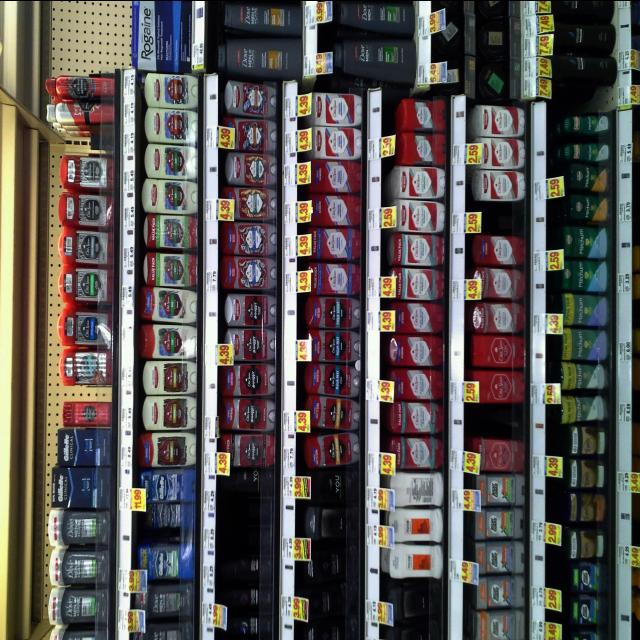empty_space: (61, 1, 135, 67), (226, 489, 270, 543), (476, 409, 520, 429), (482, 206, 524, 226)
